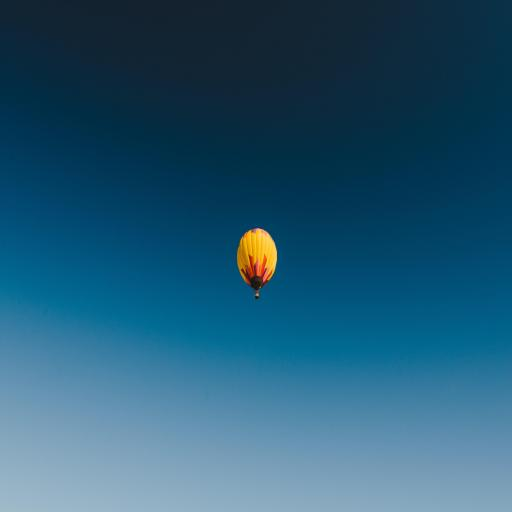hot air ballon: (237, 228, 277, 299)
